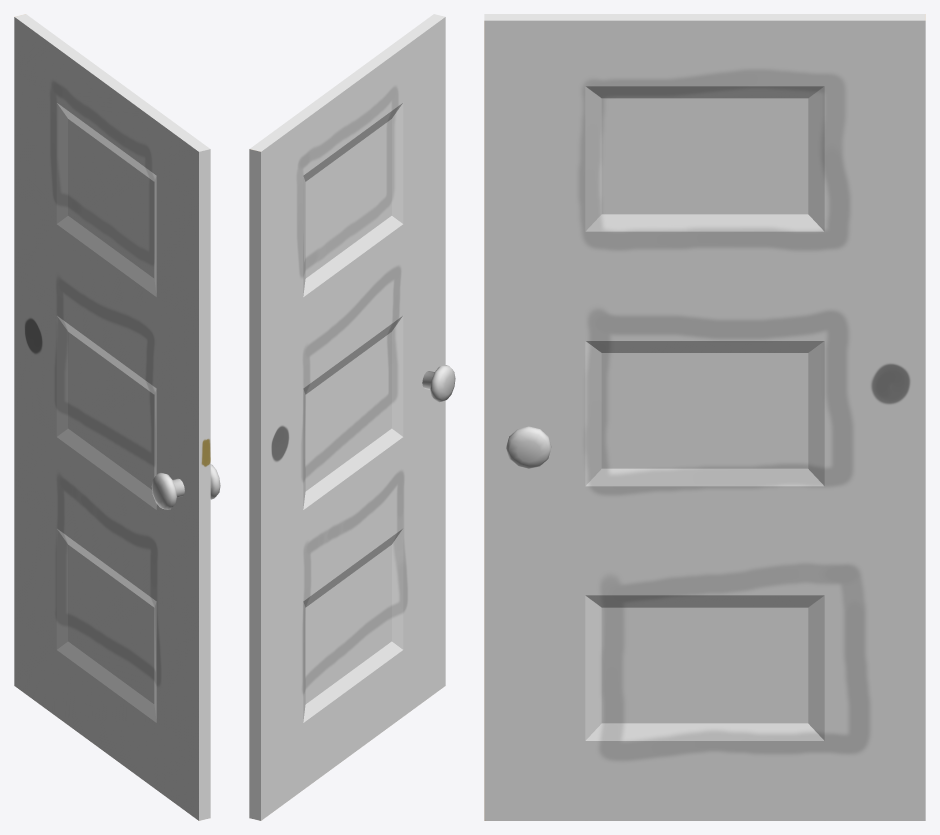
Rendered from Door.fbx.
The picture shows the model from 3 angles, left to right: view 1: azimuth 30°, elevation 25°; view 2: azimuth 150°, elevation 25°; view 3: azimuth 270°, elevation 25°; orthographic projection. The views are drawn at different scales.
Visible parts, largest first — view 1: Door, Doorhandle; view 2: Door, Doorhandle; view 3: Door, Doorhandle.
Part boxes in pixels (x1,y1,x2,y2): Door: [14, 14, 210, 820]; Doorhandle: [151, 464, 220, 509]; Door: [249, 14, 445, 820]; Doorhandle: [422, 365, 455, 402]; Door: [484, 14, 925, 820]; Doorhandle: [506, 426, 551, 468].
Bounding box in the file's own units: 19.4 × 220 × 110.
